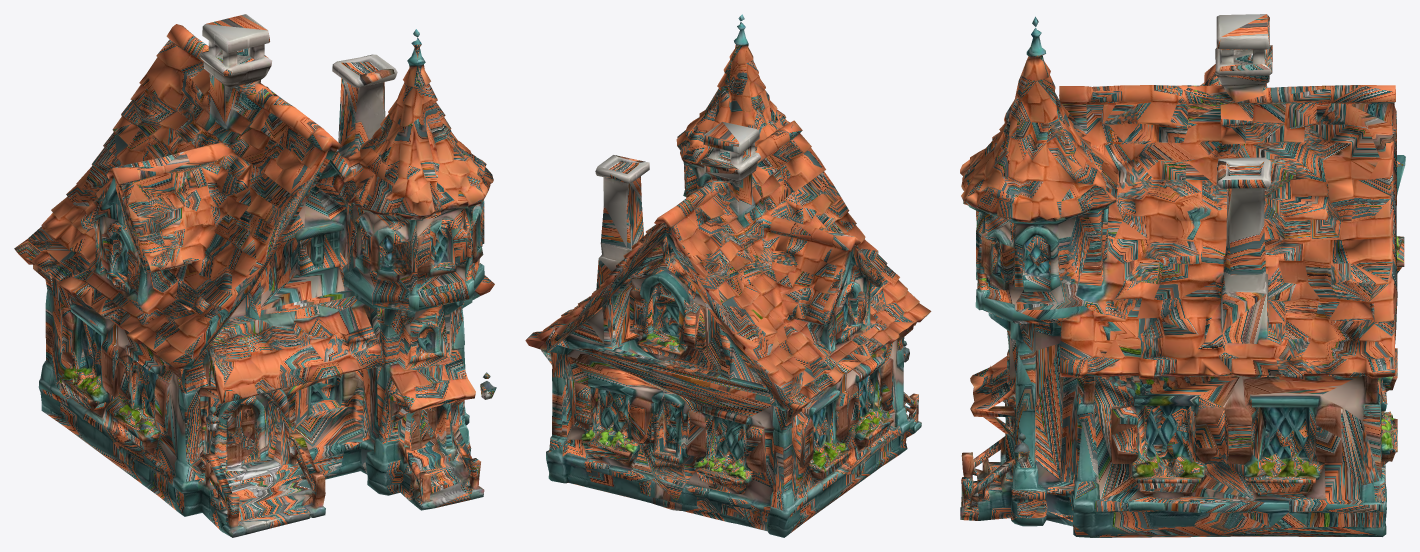
The model's file is Ember_Tiled_Turret_Ho.glb.
3 views of the same model, side by side, from view 1: azimuth 30°, elevation 25°; view 2: azimuth 150°, elevation 25°; view 3: azimuth 270°, elevation 25° (orthographic). The views are drawn at different scales.
Parts seen in each view (by area): view 1: Ember_Tiled_Turret_Ho; view 2: Ember_Tiled_Turret_Ho; view 3: Ember_Tiled_Turret_Ho.
Boxes of the visible parts, x1,y1,x2,y2 form: Ember_Tiled_Turret_Ho: (14,14,496,537); Ember_Tiled_Turret_Ho: (525,14,931,537); Ember_Tiled_Turret_Ho: (960,14,1405,537).
Bounding box in the file's own units: 1.45 × 1.9 × 1.58.
Materials: 1 (1 with a texture image).
